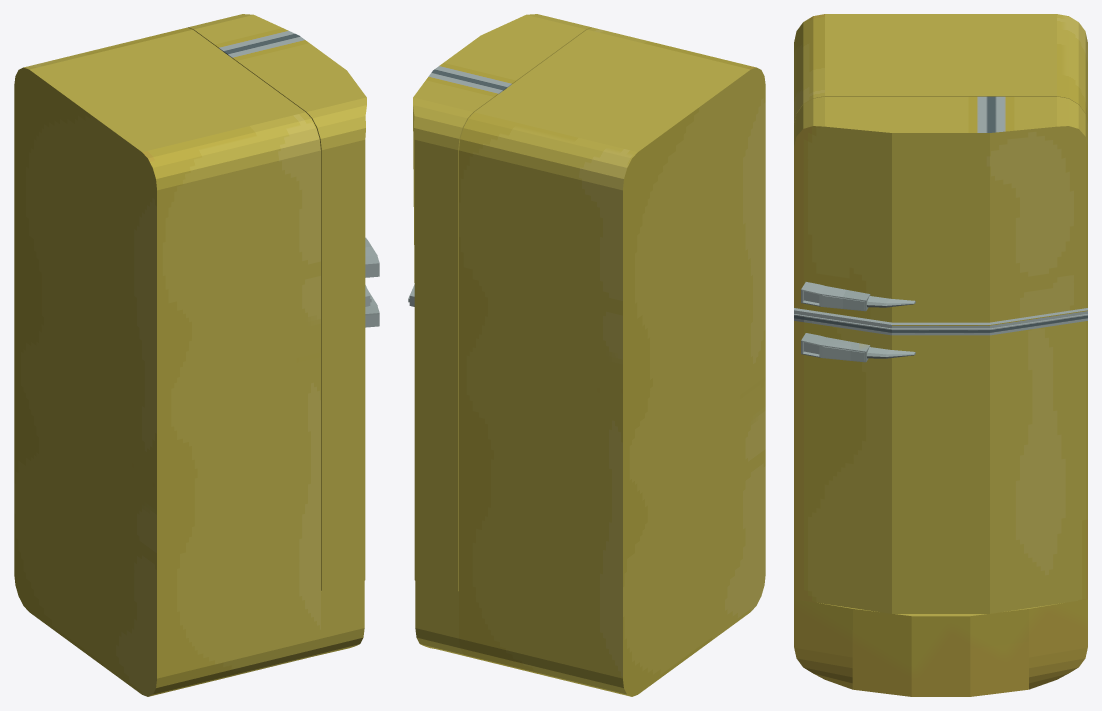
File: Geladeirapoluis.fbx
3 renders of one model, left to right at view 1: azimuth 30°, elevation 25°; view 2: azimuth 150°, elevation 25°; view 3: azimuth 270°, elevation 25°, orthographic. The views are drawn at different scales.
Parts seen in each view (by area): view 1: Cube.001, Cube, Cube.003; view 2: Cube.001, Cube; view 3: Cube, Cube.001, Cube.003.
Part boxes in pixels (left/top/right/bottom): Cube.001: left=14, top=27, right=364, bottom=696; Cube: left=188, top=14, right=371, bottom=590; Cube.003: left=365, top=237, right=379, bottom=327; Cube.001: left=415, top=27, right=765, bottom=696; Cube: left=408, top=14, right=591, bottom=590; Cube: left=794, top=96, right=1087, bottom=613; Cube.001: left=794, top=14, right=1087, bottom=696; Cube.003: left=801, top=282, right=915, bottom=362.
Bounding box in the file's own units: 236 × 505 × 239.
Materials: 2 (2 with a texture image).
